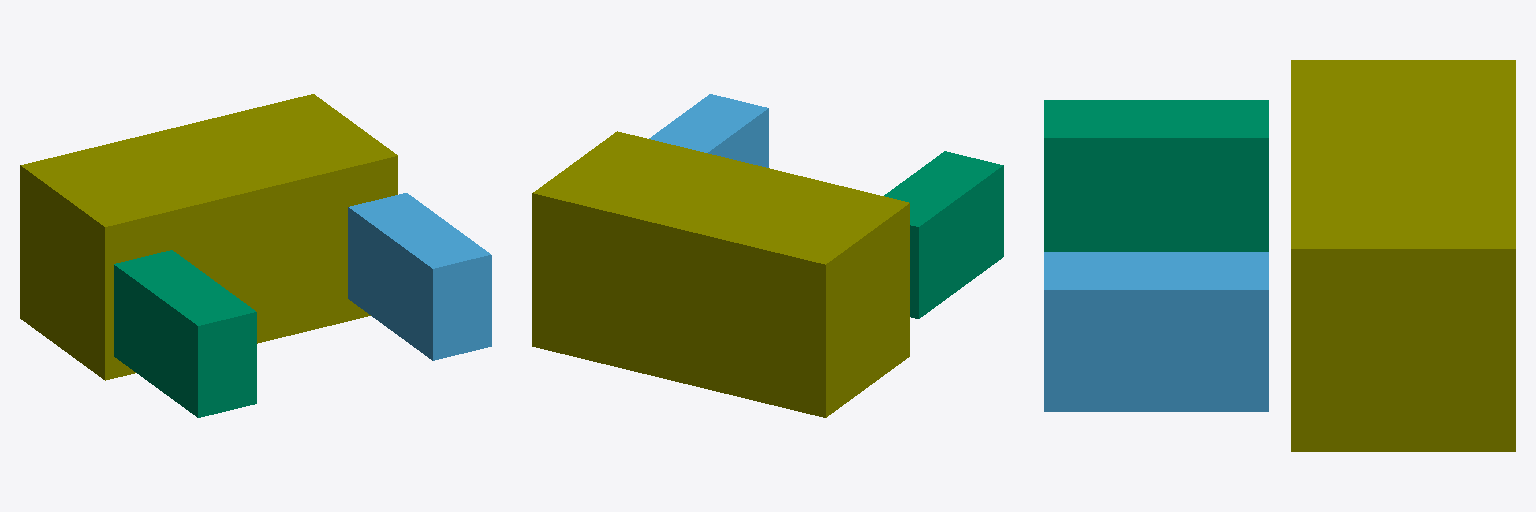
robot.urdf — Wrench:
<robot name="Wrench">
	<link name="base_link">
	
		<visual name="">
			<origin xyz="0 0 0" rpy="0 0 0"/>
			<geometry>
				<box size="0.2 0.1 0.1"/>
			</geometry>
			<material name="">
				<color rgba="0.6 0.6 0 1"/>
			</material>
		</visual>

		<collision name="">
			<origin xyz="0 0 0" rpy="0 0 0"/>
			<geometry>
				<box size="0.2 0.1 0.1"/>
			</geometry>
		</collision>
		
		
		<inertial>
			<mass value="5.0"/>
		</inertial>

	</link>
	
	<link name="right_jaw">
	
		<visual name="">
			<origin xyz="0 0 0" rpy="0 0 0"/>
			<geometry>
				<box size="0.04 0.1 0.06"/>
			</geometry>
			<material name="">
			
			</material>
		</visual>

		<collision name="">
			<origin xyz="0 0 0" rpy="0 0 0"/>
			<geometry>
				<box size="0.04 0.1 0.06"/>
			</geometry>
		</collision>

	</link>
	
	<joint name="base_right_jaw_joint" type="prismatic">
		<origin xyz="0.08 -0.11 0" rpy="0 0 0"/>
		<parent link="base_link"/>
		<child link="right_jaw"/>
		<axis xyz="-1.0 0.0 0.0"/>
		<limit lower="0.0" upper="0.05" effort="10.0" velocity="0.2"/>
	</joint>

	<link name="left_jaw">
	
		<visual name="">
			<origin xyz="0 0 0" rpy="0 0 0"/>
			<geometry>
				<box size="0.04 0.1 0.06"/>
			</geometry>
			<material name="">
			
			</material>
		</visual>

		<collision name="">
			<origin xyz="0 0 0" rpy="0 0 0"/>
			<geometry>
				<box size="0.04 0.1 0.06"/>
			</geometry>
		</collision>

	</link>
	
	<joint name="base_left_jaw_joint" type="prismatic">
		<origin xyz="-0.08 -0.11 0" rpy="0 0 0"/>
		<parent link="base_link"/>
		<child link="left_jaw"/>
		<axis xyz="1.0 0.0 0.0"/>
		<limit lower="0.0" upper="0.05" effort="10.0" velocity="0.2"/>
	</joint>
	
	<gobotics name="wrench_control" type="grouped_joints">
		<input name="wrench_in" lower="0.0" upper="0.05"/>
		<output joint="base_right_jaw_joint" factor="1.0"/>
		<output joint="base_left_jaw_joint" factor="1.0"/>
	</gobotics>

</robot>

--- Render facts (derived) ---
Views: 3 orthographic renders of the robot side by side, from view 1: azimuth 30°, elevation 25°; view 2: azimuth 150°, elevation 25°; view 3: azimuth 270°, elevation 25°.
Robot: Wrench — 3 links, 2 joints (2 prismatic); root link base_link; default pose: every joint at zero.
Visible links, largest first — view 1: base_link, right_jaw, left_jaw; view 2: base_link, left_jaw, right_jaw; view 3: base_link, right_jaw, left_jaw.
Link boxes in pixels (x1,y1,x2,y2): base_link: (20, 94, 397, 380); right_jaw: (348, 193, 491, 360); left_jaw: (114, 250, 256, 417); base_link: (532, 131, 909, 417); left_jaw: (884, 151, 1003, 318); right_jaw: (649, 94, 768, 167); base_link: (1291, 60, 1515, 451); right_jaw: (1044, 252, 1268, 411); left_jaw: (1044, 100, 1268, 251).
Bounding box of the posed robot: 0.2 × 0.21 × 0.1 m (x, y, z).
Geometry: primitives only (box / cylinder / sphere), no mesh files.